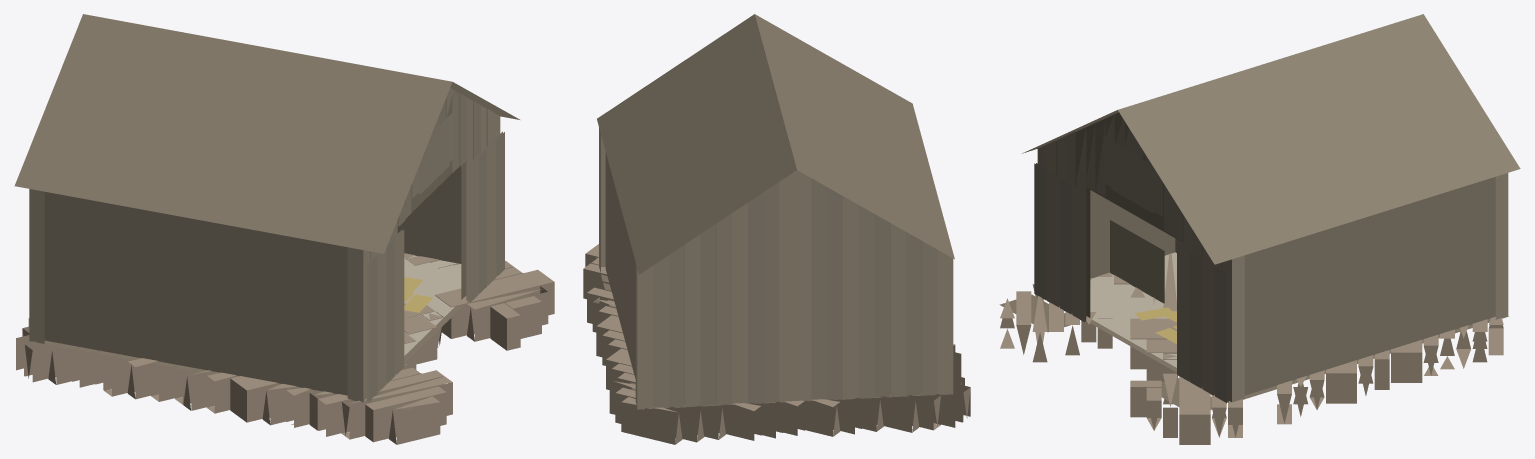
The model's file is house_9.lod.glb.
3 renders of one model, left to right at view 1: azimuth 30°, elevation 25°; view 2: azimuth 150°, elevation 25°; view 3: azimuth 270°, elevation 25°, orthographic. The views are drawn at different scales.
Visible parts, largest first — view 1: house_9; view 2: house_9; view 3: house_9.
Part boxes in pixels (x1,y1,x2,y2): house_9: [14, 14, 554, 444]; house_9: [583, 14, 970, 444]; house_9: [999, 14, 1520, 444].
Bounding box in the file's own units: 15.48 × 9.25 × 16.
